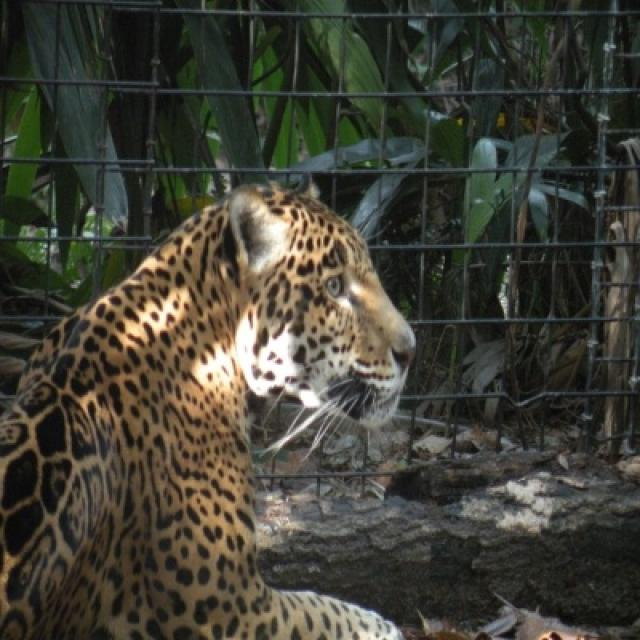Jaguar: (0, 184, 416, 638)
